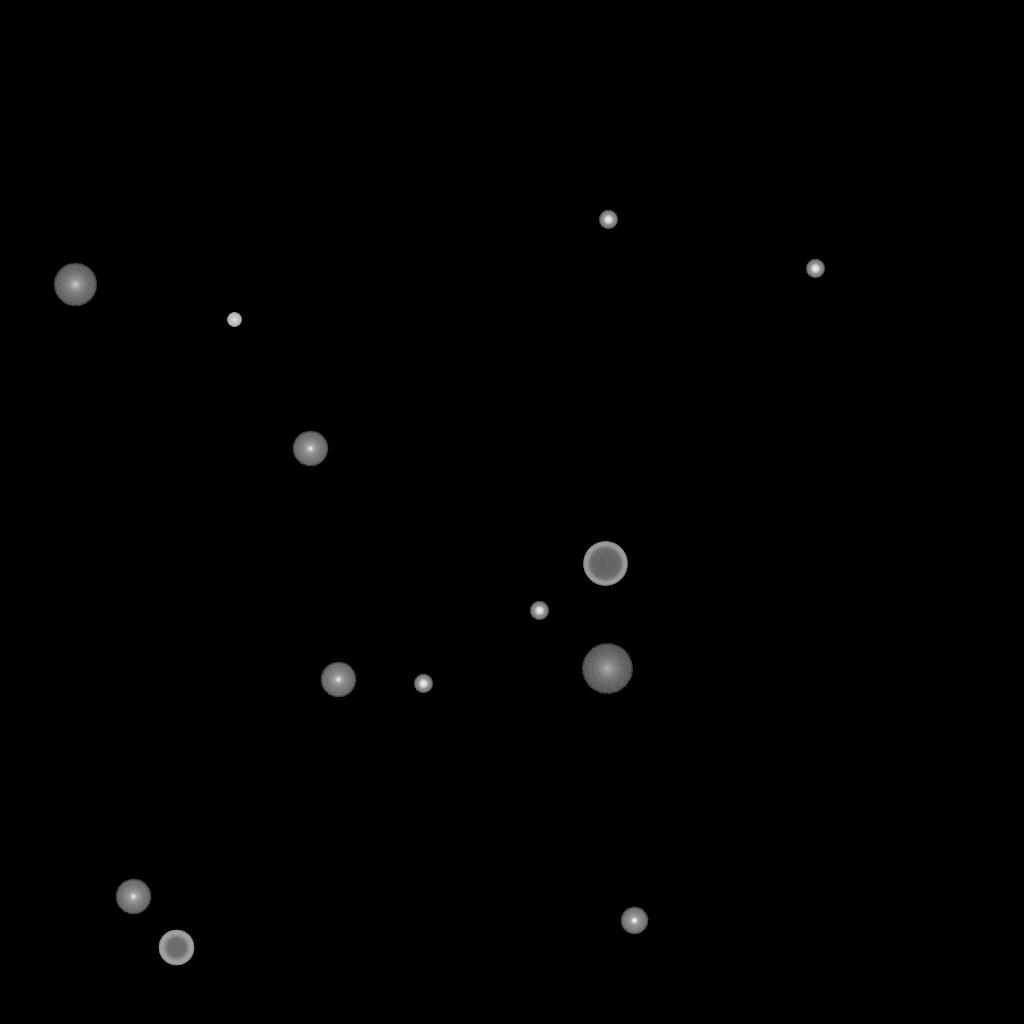depth:-10: (620, 907, 648, 935)
depth:-20: (414, 675, 432, 693), (806, 260, 824, 278), (599, 211, 617, 229), (530, 602, 548, 620)
depth:-30: (227, 313, 241, 327)
depth:-60: (158, 930, 194, 966)
depth:-70: (583, 542, 627, 586)
depth:0: (320, 662, 356, 698), (292, 431, 328, 467), (115, 879, 151, 915)
depth:10: (53, 263, 97, 307)
depth:20: (581, 644, 633, 694)
